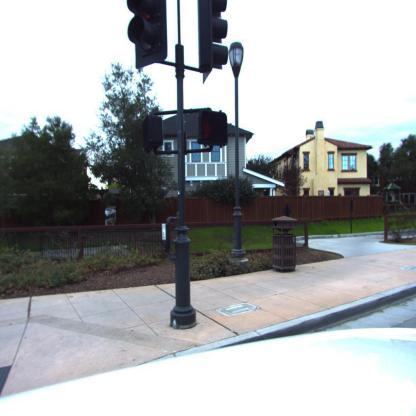traffic light: (127, 0, 168, 68), (198, 0, 230, 77), (197, 110, 228, 146)
